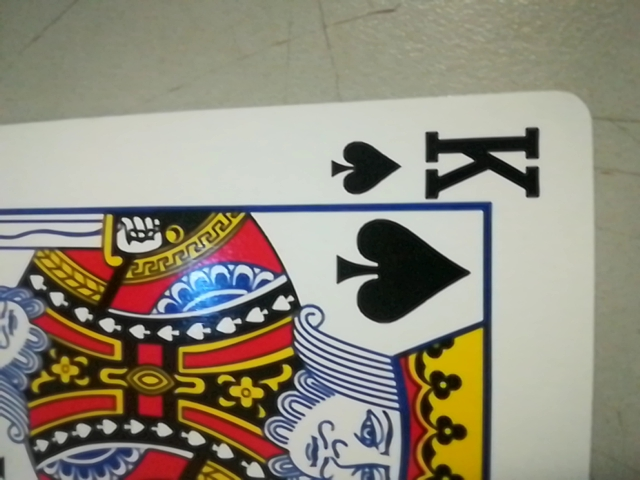ht k: (317, 125, 540, 205)
